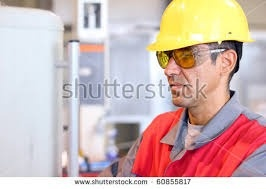helmet: (146, 1, 257, 52)
person with partial safety: (122, 1, 264, 179)
